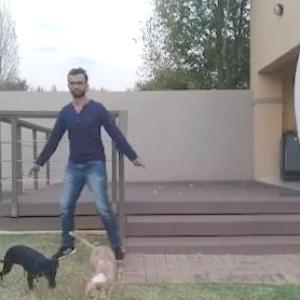land: (31, 70, 146, 268)
